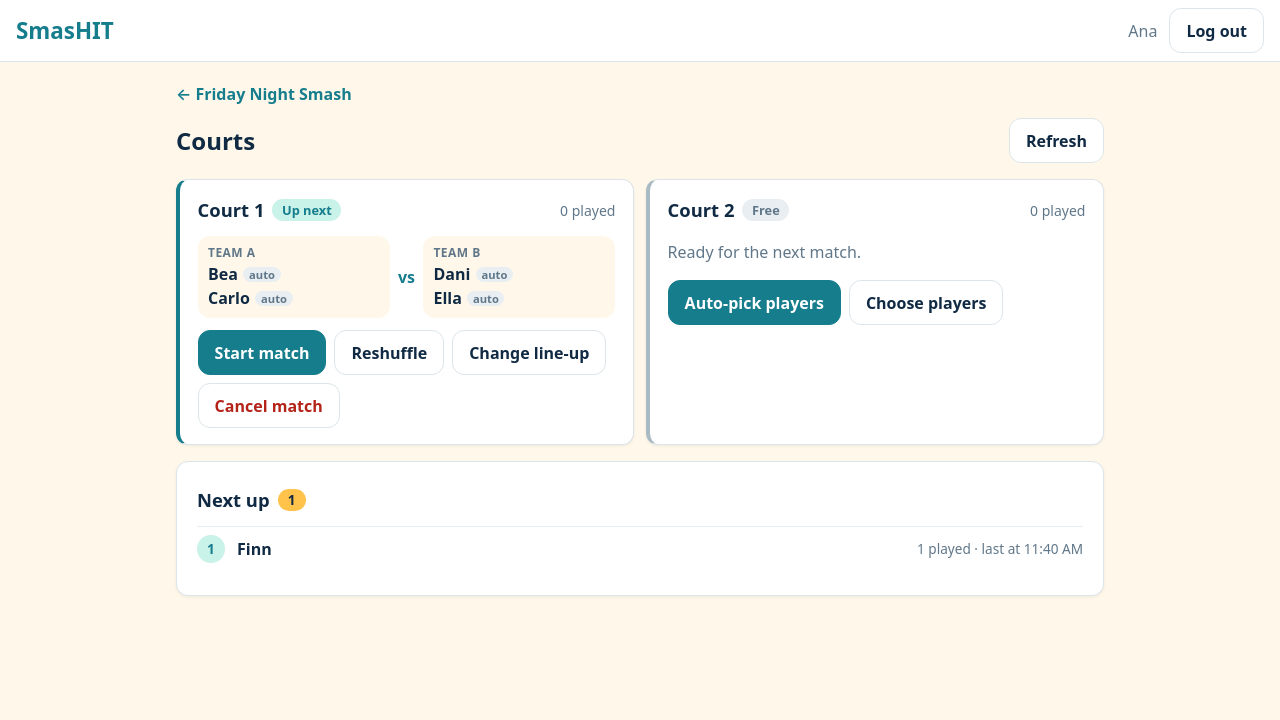
Test case: Courts page › changes the line-up of a scheduled match
Click the button "Change line-up" at (529, 353), box [452,330,606,375]
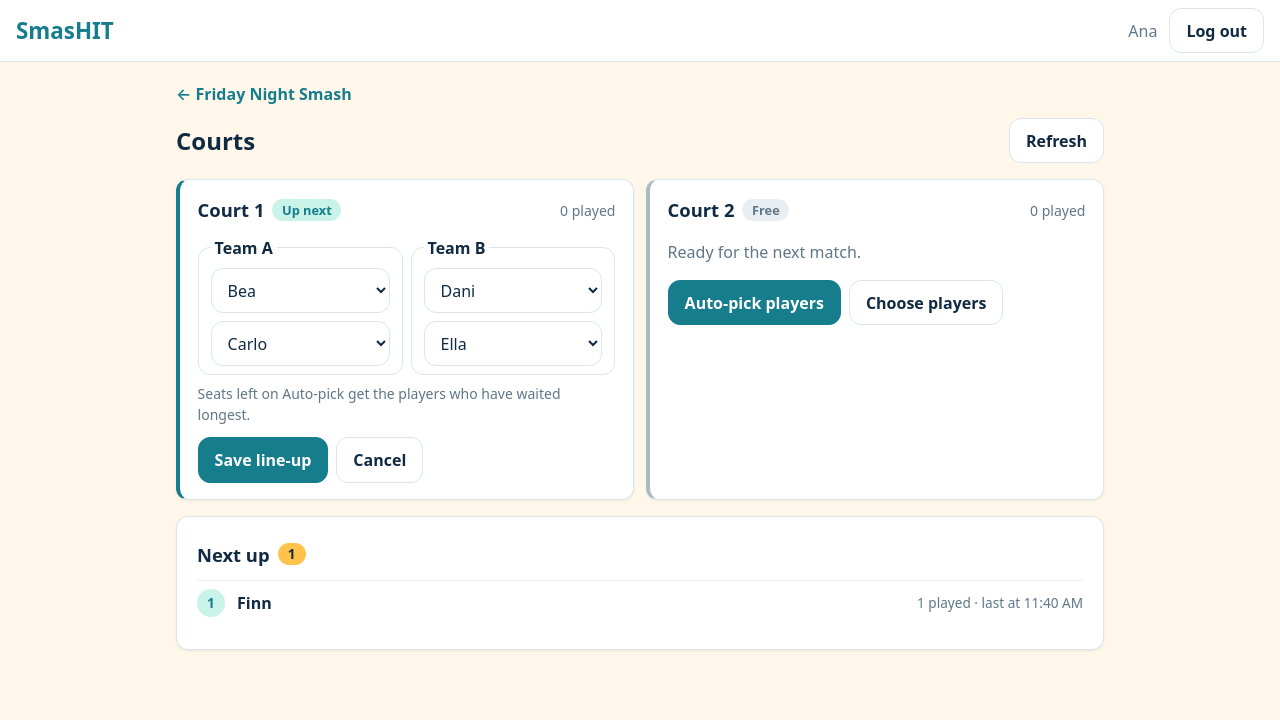
Now the 1st dropdown named "Team A player 1" shows "Bea", box [211,268,390,313]
Finn (waiting) replaces Ella.
Select "Finn" in the 4th dropdown named "Team B player 2" at (513, 344), box [424,321,602,366]
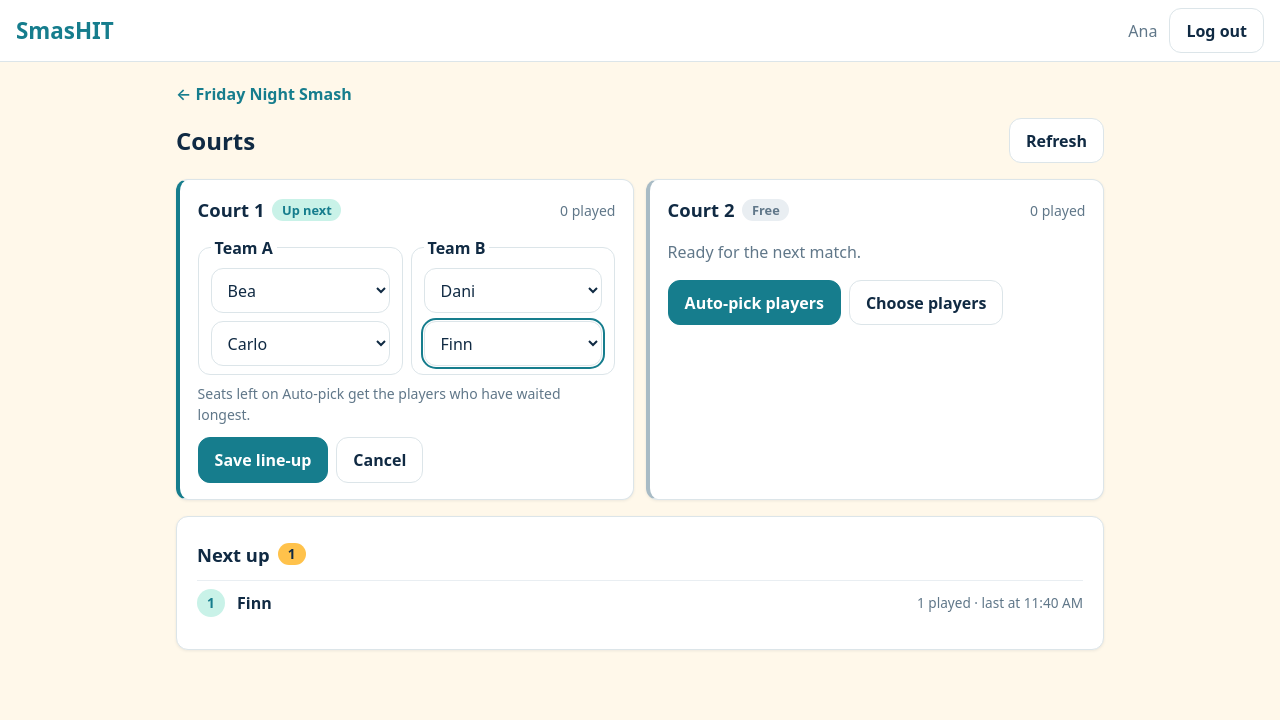
Click the button "Save line-up" at (263, 460), box [198,437,328,483]
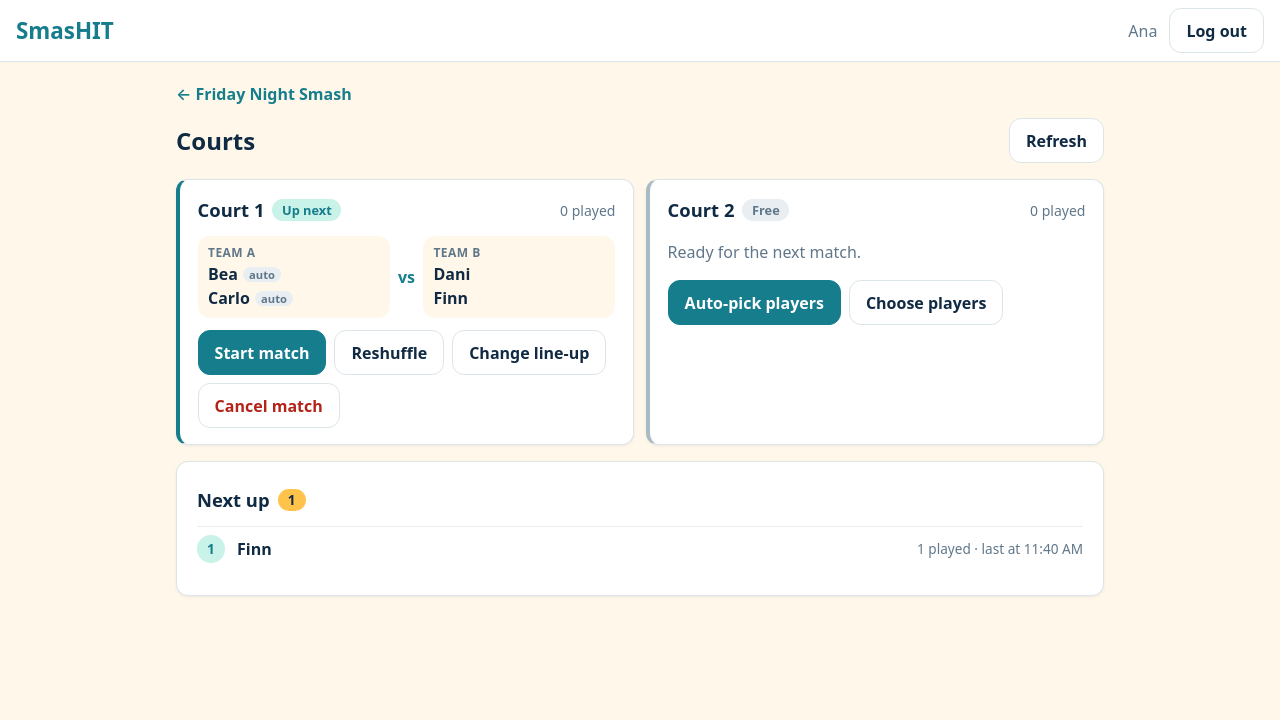
Now the list item "Finn" is shown, box [433,287,468,309]
